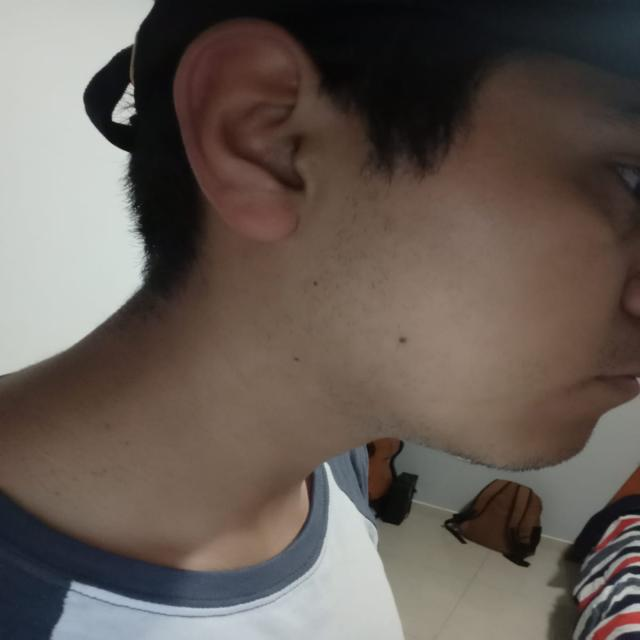ear: (173, 20, 318, 242)
